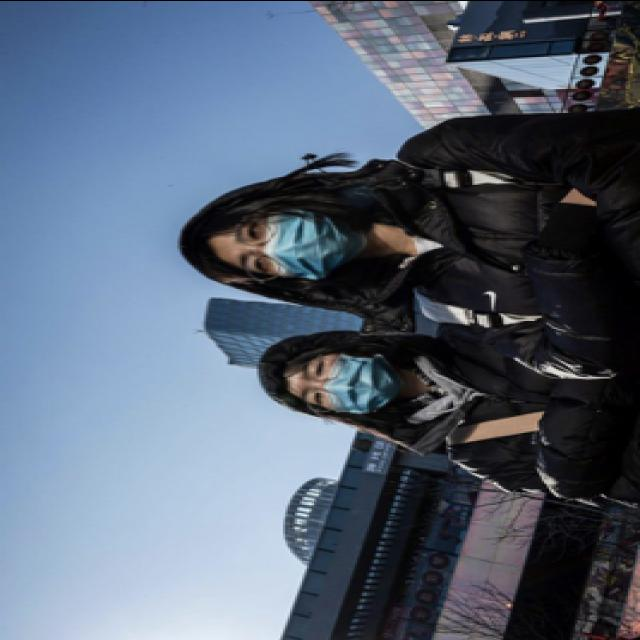mask: (228, 204, 370, 278), (292, 350, 402, 414)
